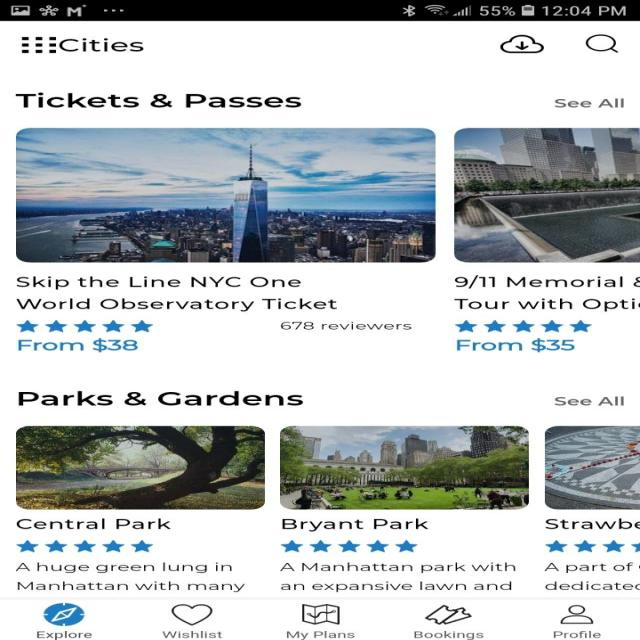Icon: (280, 539, 418, 552), (16, 539, 154, 552), (454, 319, 592, 332), (16, 319, 153, 332), (544, 539, 639, 552), (42, 602, 84, 626), (424, 604, 471, 624), (170, 603, 212, 625), (498, 34, 544, 54), (302, 603, 339, 624), (559, 604, 593, 624), (584, 34, 618, 53), (20, 37, 56, 54)
Image: (15, 128, 436, 262), (453, 128, 639, 262), (279, 425, 528, 510), (15, 426, 265, 510), (543, 426, 639, 510)
Text: (15, 276, 337, 312), (280, 561, 516, 592), (15, 561, 245, 592), (453, 274, 639, 312), (15, 92, 302, 108), (18, 391, 304, 405), (543, 562, 639, 590), (281, 518, 428, 532), (18, 337, 138, 352), (455, 337, 574, 352), (16, 518, 171, 529), (59, 38, 144, 52), (280, 321, 412, 330), (544, 518, 639, 529), (554, 98, 624, 107), (554, 396, 624, 405), (413, 630, 483, 639), (286, 630, 355, 639), (36, 630, 92, 639), (162, 630, 224, 638), (552, 630, 600, 638)
